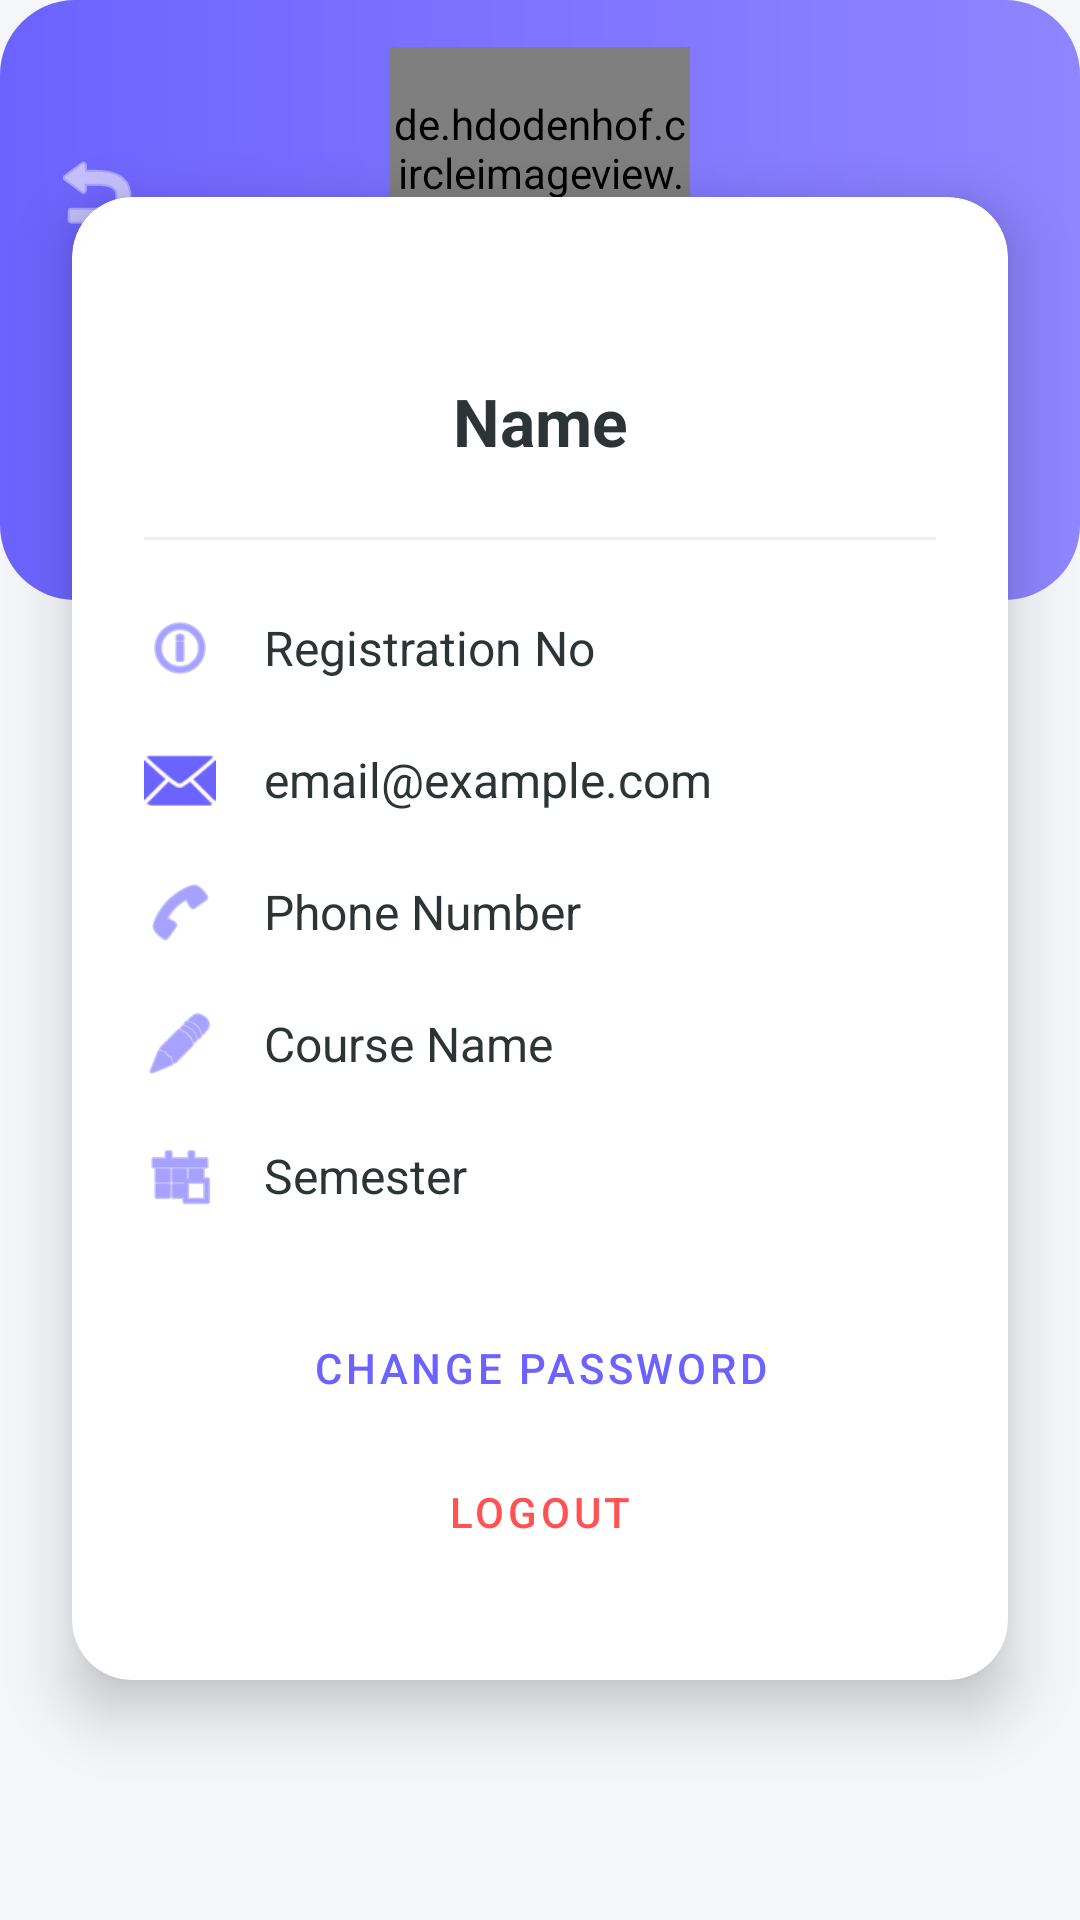

Icon bounding boxes for this 1080*1920 phone screenshot, format (x1, y1, x2, y2):
call: (152, 884, 208, 940)
edit: (149, 1013, 210, 1074)
info details: (154, 622, 206, 674)
today: (151, 1150, 210, 1204)
